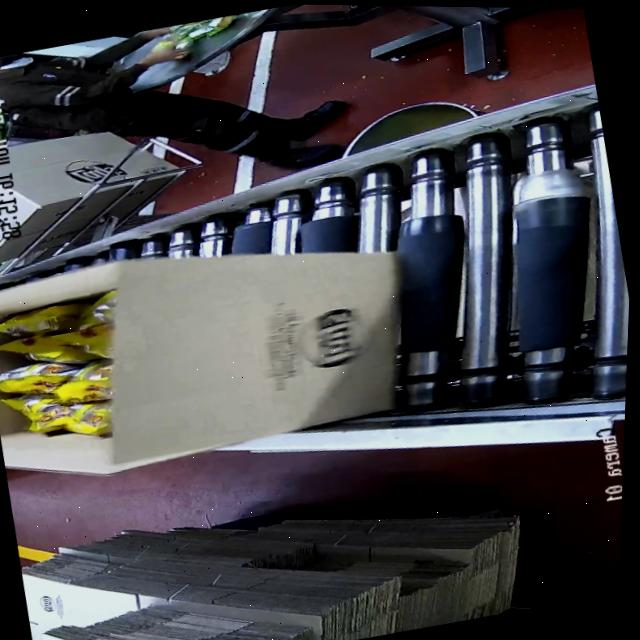SALTED: (0, 289, 134, 463)
